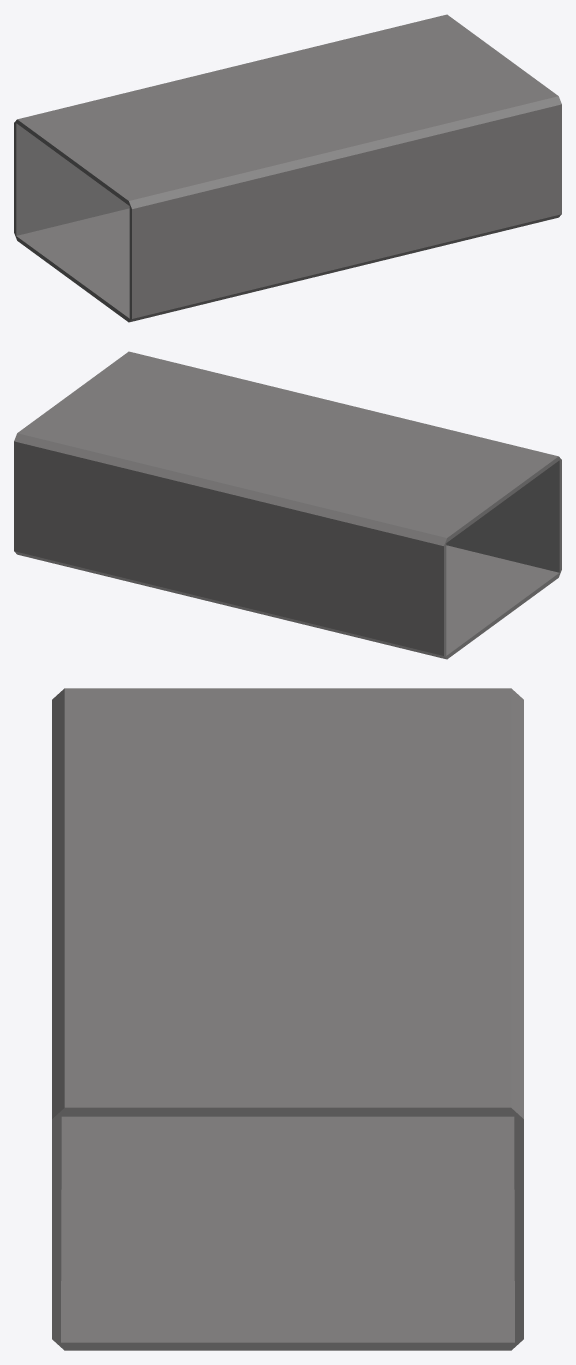
The model's file is SM_PipeStraight.fbx.
3 views of the same model, one above another, from view 1: azimuth 30°, elevation 25°; view 2: azimuth 150°, elevation 25°; view 3: azimuth 270°, elevation 25° (orthographic). The views are drawn at different scales.
Visible parts, largest first — view 1: Cube.003; view 2: Cube.003; view 3: Cube.003.
Part boxes in pixels (box(x1,y1,x2,y2)): Cube.003: box(14, 14, 561, 322); Cube.003: box(14, 351, 561, 659); Cube.003: box(52, 688, 523, 1350).
Size of the model in its own units: 47.57 by 100 by 27.
